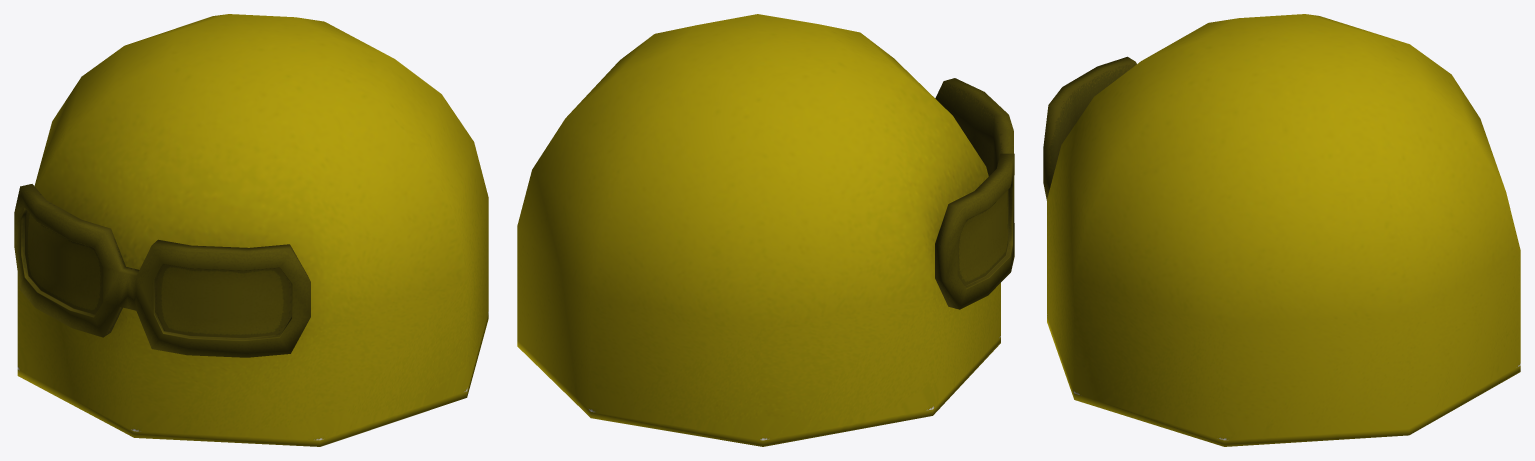
Rendered from Android_head_yellow.dae.
The picture shows the model from 3 angles, left to right: view 1: azimuth 30°, elevation 25°; view 2: azimuth 150°, elevation 25°; view 3: azimuth 270°, elevation 25°; orthographic projection.
Parts seen in each view (by area): view 1: Head, Glasses; view 2: Head, Glasses; view 3: Head, Glasses.
Boxes of the visible parts, box(x1,y1,x2,y2) form: Head: box(17, 14, 488, 446); Glasses: box(14, 184, 310, 357); Head: box(517, 14, 1000, 446); Glasses: box(935, 78, 1014, 309); Head: box(1047, 14, 1520, 446); Glasses: box(1043, 56, 1136, 200).
Bounding box in the file's own units: 2.03 × 1.95 × 1.38.
Materials: 3 (3 with a texture image).
